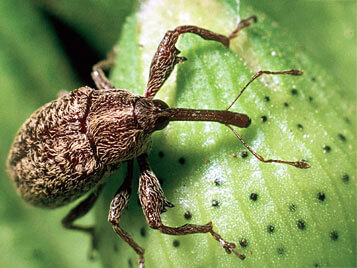dolgonosik: (8, 17, 308, 268)
